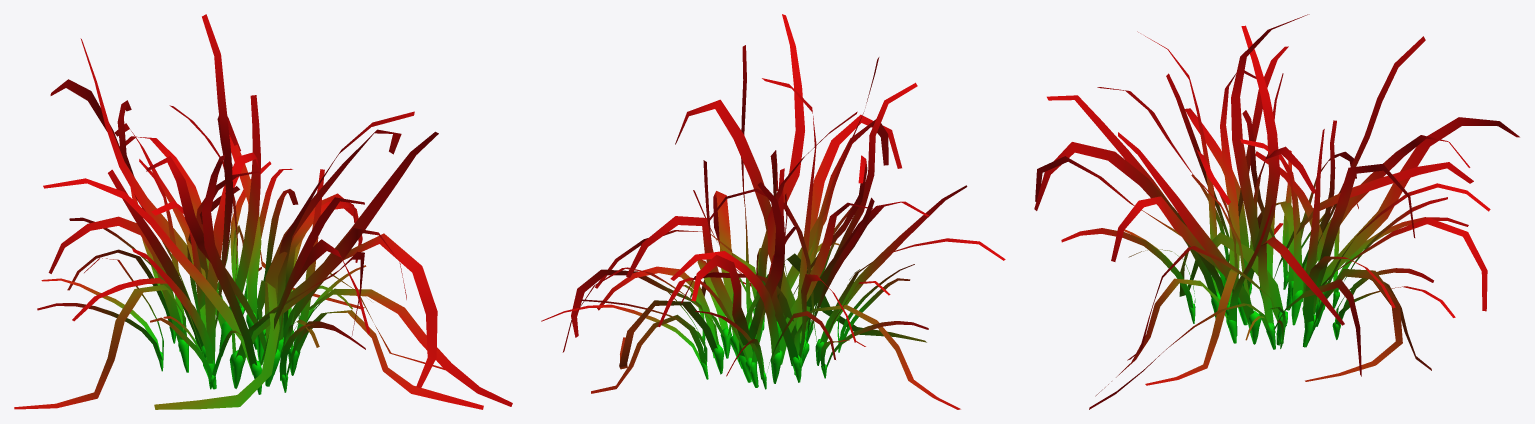
The model's file is QXL_Ribbon_Grass_tbdpec3r_1_LOD1.fbx.
3 renders of one model, left to right at view 1: azimuth 30°, elevation 25°; view 2: azimuth 150°, elevation 25°; view 3: azimuth 270°, elevation 25°, orthographic. The views are drawn at different scales.
Parts seen in each view (by area): view 1: Var2_LOD1; view 2: Var2_LOD1; view 3: Var2_LOD1.
Part boxes in pixels (x1,y1,x2,y2): Var2_LOD1: (14, 14, 512, 409); Var2_LOD1: (541, 14, 1005, 409); Var2_LOD1: (1034, 14, 1519, 409).
Bounding box in the file's own units: 53.05 × 44.95 × 62.89.
